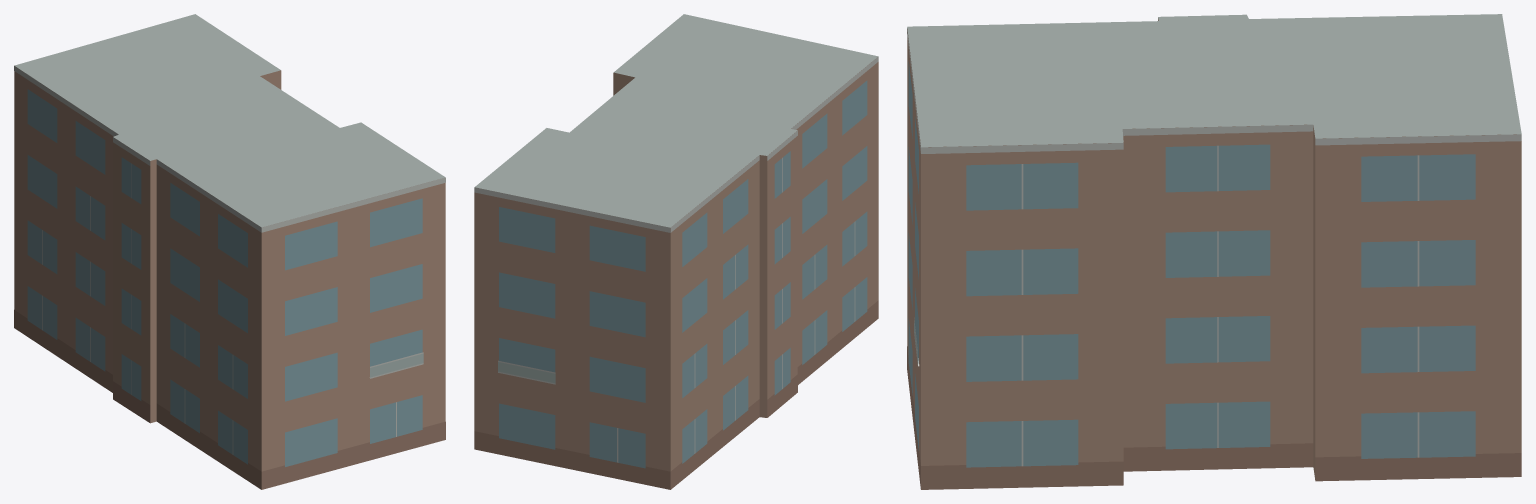
File: survey-upis-32734023.glb
The picture shows the model from 3 angles, left to right: view 1: azimuth 30°, elevation 25°; view 2: azimuth 150°, elevation 25°; view 3: azimuth 270°, elevation 25°; orthographic projection. The views are drawn at different scales.
Parts seen in each view (by area): view 1: survey-upis-32734023.tmp; view 2: survey-upis-32734023.tmp; view 3: survey-upis-32734023.tmp.
Boxes of the visible parts, box(x1,y1,x2,y2) form: survey-upis-32734023.tmp: box(14, 14, 445, 489); survey-upis-32734023.tmp: box(474, 14, 878, 489); survey-upis-32734023.tmp: box(907, 14, 1521, 489).
Size of the model in its own units: 10.17 by 12.18 by 19.81.
